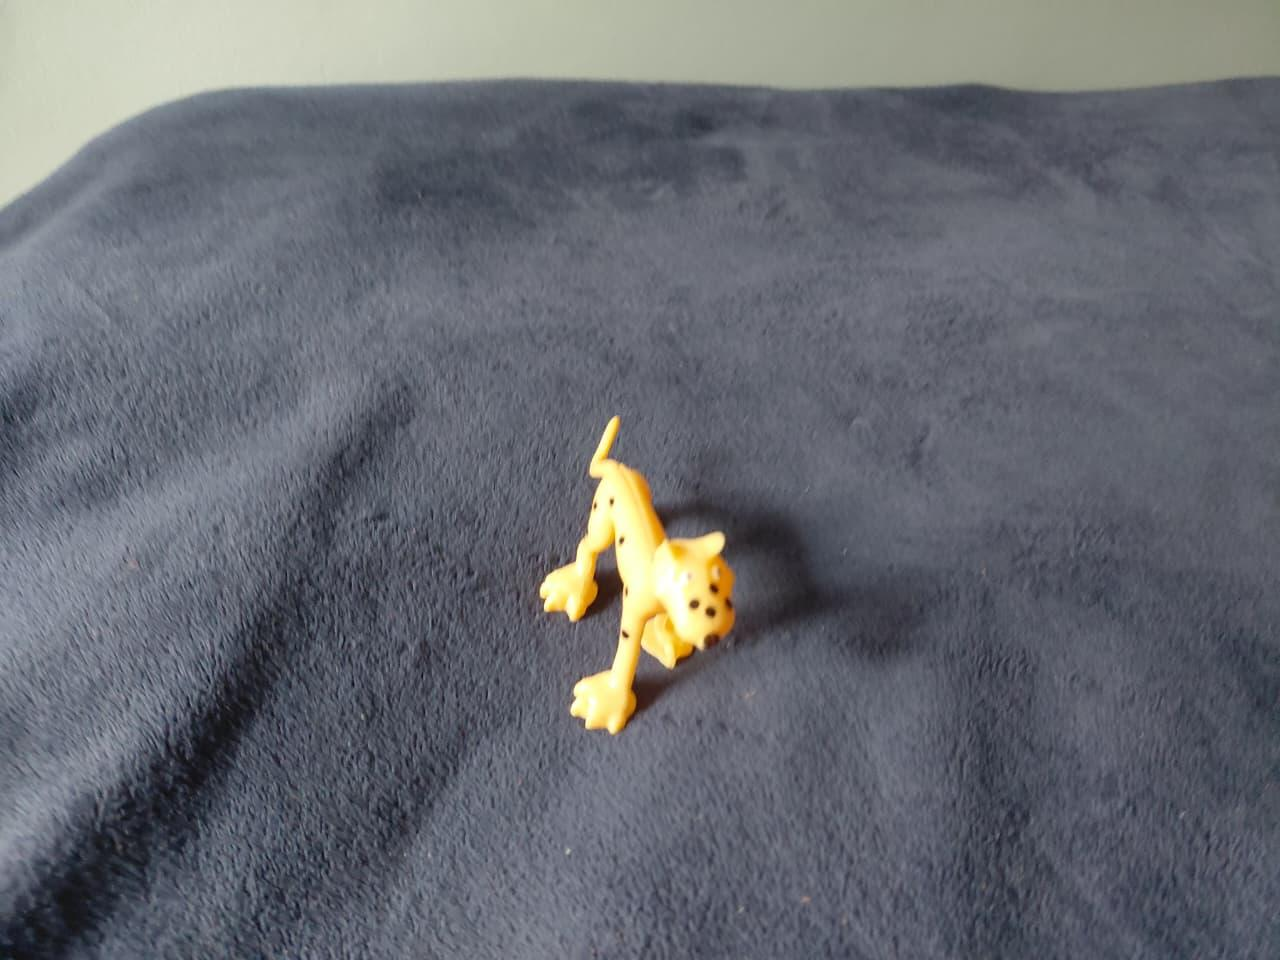cheetah: (532, 408, 746, 738)
